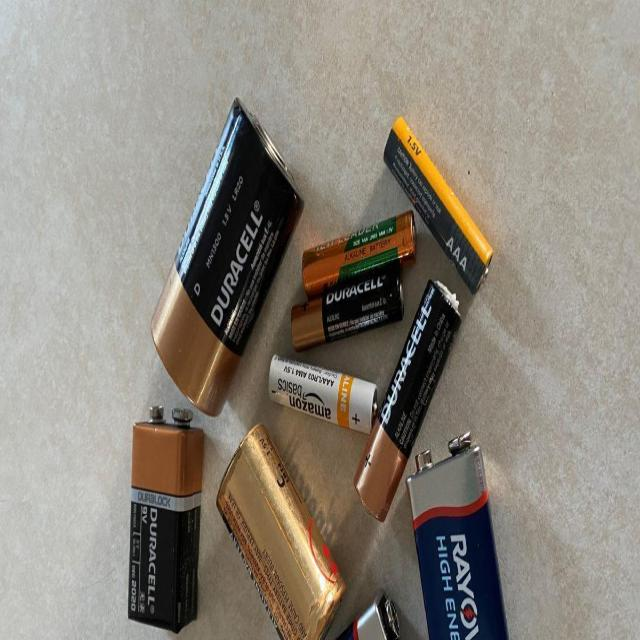9V: (128, 399, 202, 635)
AA: (352, 275, 464, 527), (380, 112, 497, 301), (300, 208, 419, 303), (289, 266, 406, 353), (266, 350, 379, 439)
